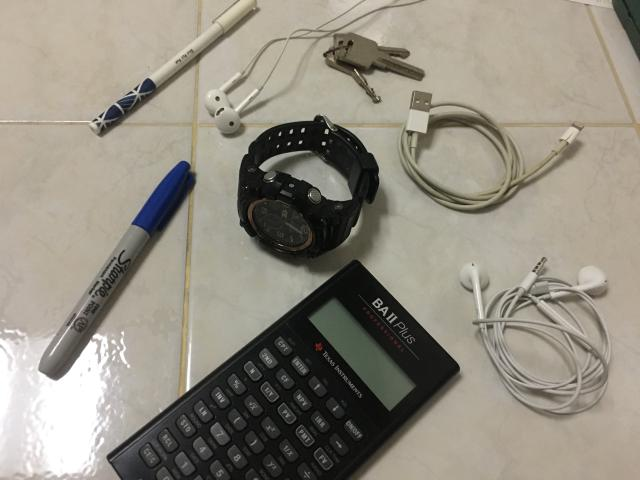Keys: (324, 32, 425, 102)
Pen: (39, 161, 194, 376), (89, 0, 256, 134)
Watch: (238, 115, 379, 258)
wire: (205, 0, 438, 133), (460, 258, 611, 414), (398, 91, 584, 211)
